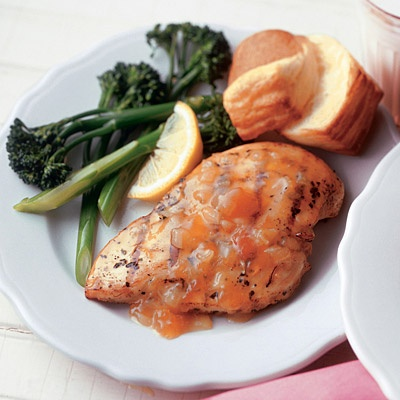background: (3, 13, 240, 198)
